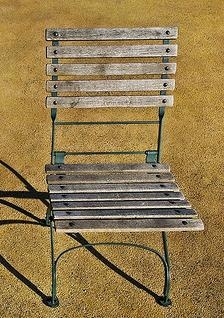obstacle: (46, 27, 203, 305)
